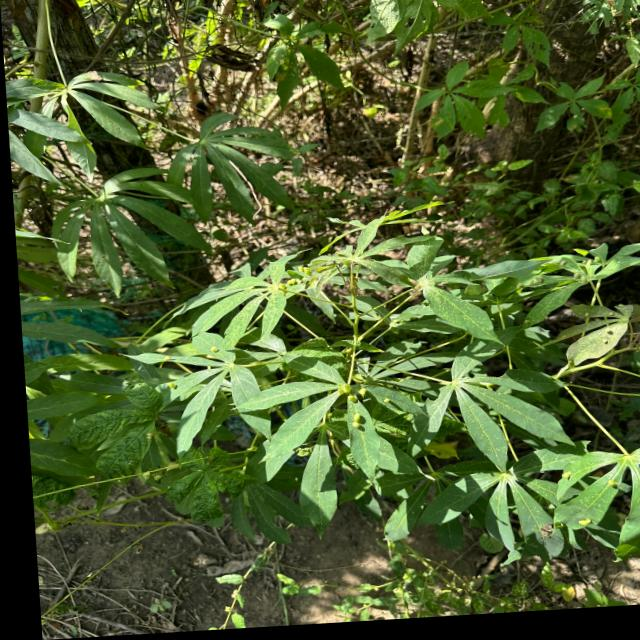Maleza: (375, 0, 638, 226), (50, 373, 160, 551), (150, 454, 246, 545)
Mosca: (81, 63, 106, 90), (334, 375, 356, 405), (201, 340, 225, 365), (278, 268, 306, 289), (569, 511, 596, 531), (305, 262, 323, 290), (603, 471, 623, 493), (602, 324, 616, 348), (350, 407, 363, 431), (271, 283, 290, 299), (163, 373, 180, 390), (413, 499, 429, 515), (556, 467, 573, 482), (382, 393, 394, 411)
